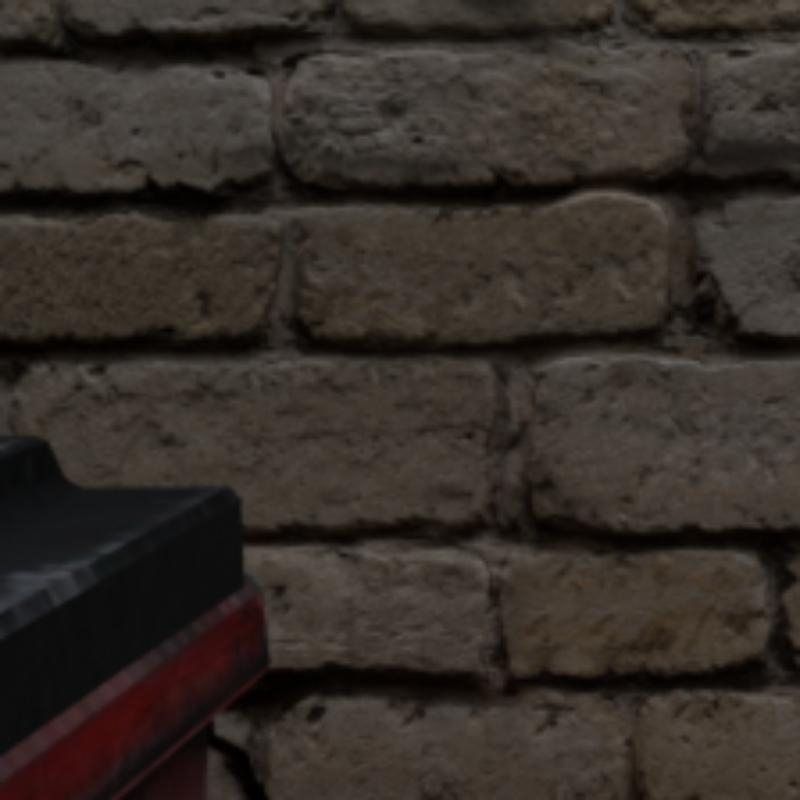pothole: (207, 718, 264, 796)
